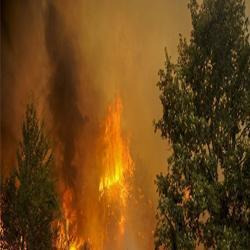fire: (101, 146, 128, 191)
